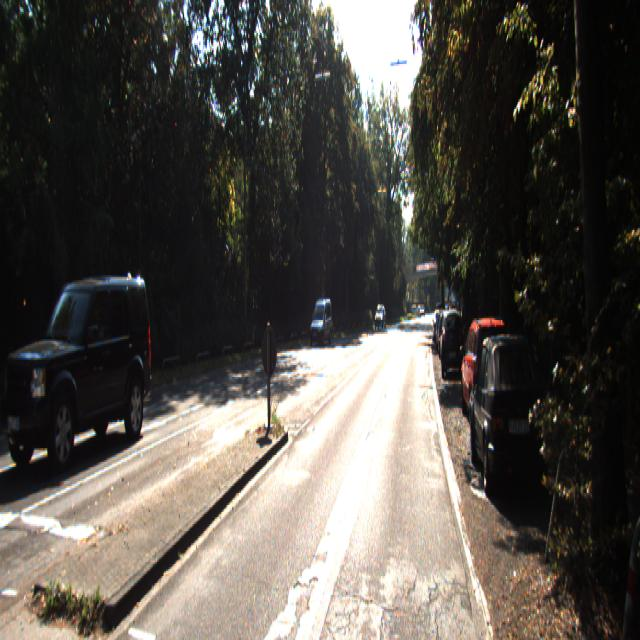Car: (473, 328, 558, 512), (460, 311, 518, 437), (441, 308, 463, 378), (308, 297, 333, 349)
DontCare: (373, 304, 386, 329)
Van: (0, 262, 156, 476)
